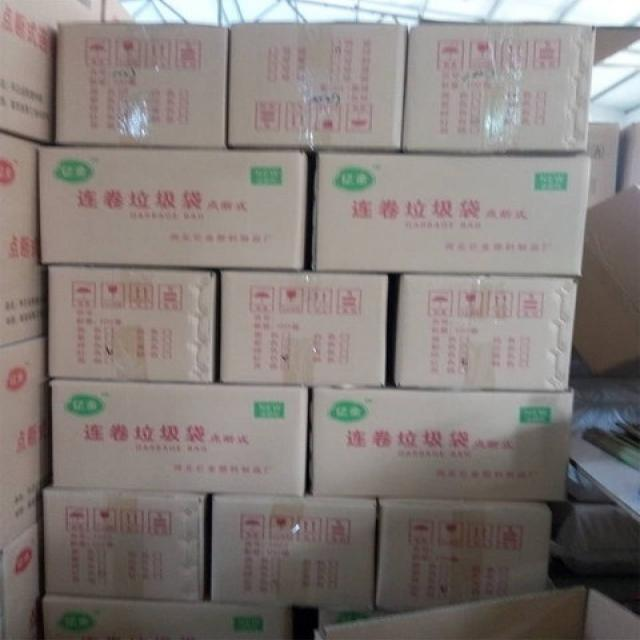box: (313, 153, 589, 274), (40, 146, 308, 270), (309, 387, 574, 501), (403, 24, 639, 151), (54, 378, 309, 495), (227, 25, 407, 151), (394, 274, 578, 392), (54, 23, 228, 146), (208, 492, 376, 612), (220, 271, 389, 388), (47, 264, 214, 382), (377, 497, 551, 610), (45, 488, 208, 602), (314, 586, 639, 639), (0, 0, 103, 145), (571, 188, 638, 374), (43, 594, 296, 639), (0, 336, 52, 547), (0, 132, 47, 346), (0, 520, 45, 639), (587, 123, 617, 209), (616, 121, 639, 193)
